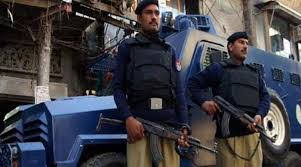gun: (89, 110, 231, 167), (203, 86, 280, 145)
uniform: (113, 32, 189, 165), (191, 53, 278, 163)
